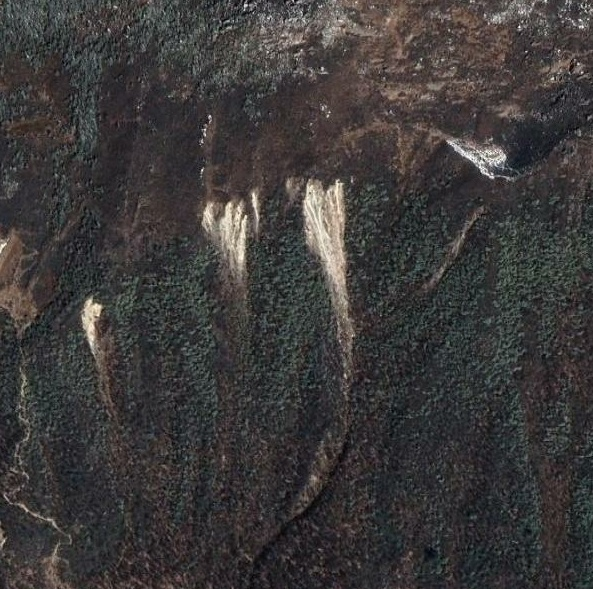slope: (286, 175, 357, 376), (197, 185, 263, 304), (432, 123, 512, 185), (79, 295, 115, 375)
